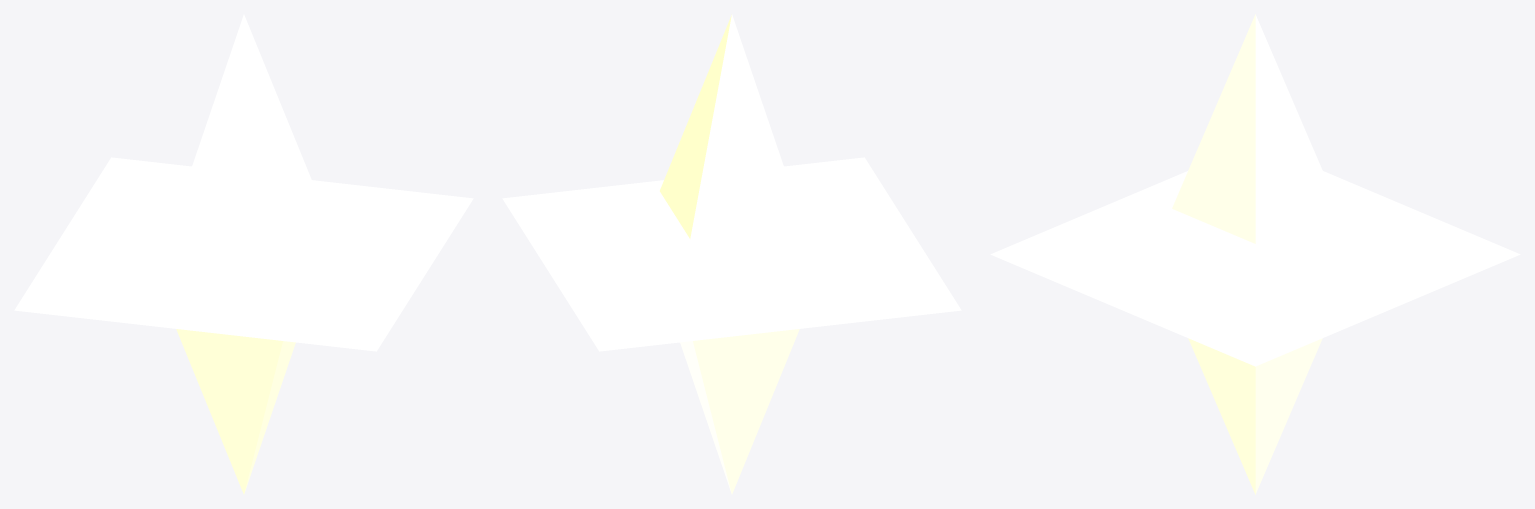
The model's file is fx_r_hit.glb.
3 views of the same model, side by side, from view 1: azimuth 30°, elevation 25°; view 2: azimuth 150°, elevation 25°; view 3: azimuth 270°, elevation 25° (orthographic).
Visible parts, largest first — view 1: fx_r_hit_spark; view 2: fx_r_hit_spark; view 3: fx_r_hit_spark.
Boxes of the visible parts, x1=… form: fx_r_hit_spark: x1=14, y1=14, x2=473, y2=494; fx_r_hit_spark: x1=502, y1=14, x2=961, y2=494; fx_r_hit_spark: x1=990, y1=14, x2=1520, y2=494.
Size of the model in its own units: 1.8 by 1.8 by 1.8.
